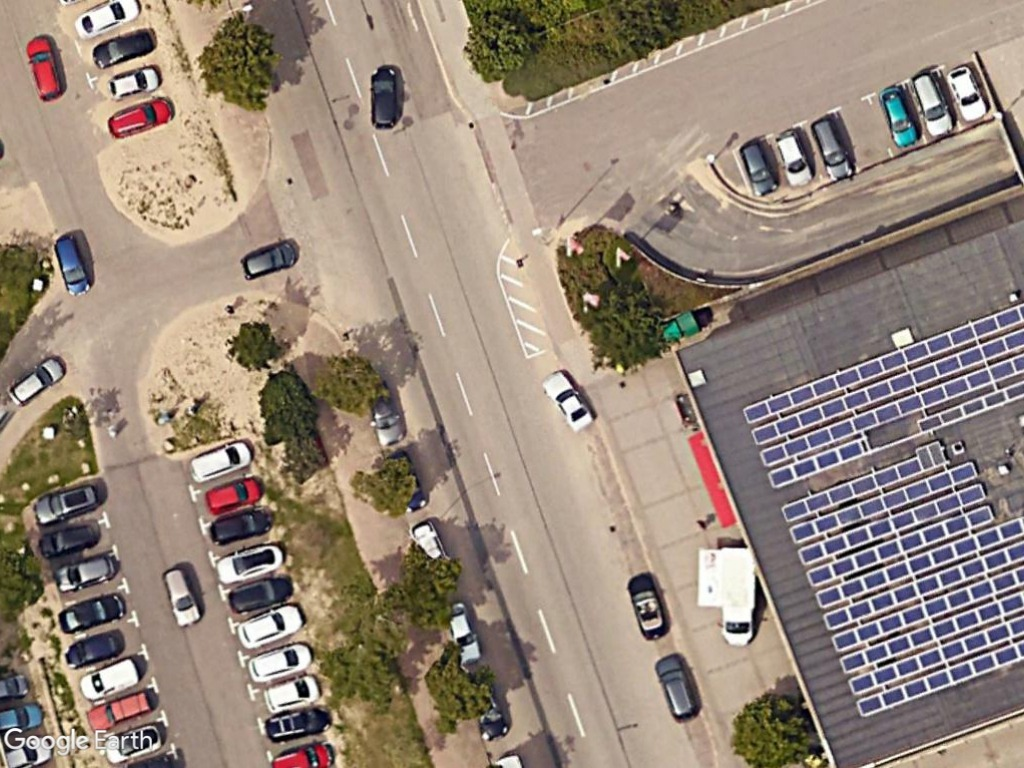car: (30, 474, 107, 532), (81, 683, 157, 738), (539, 368, 598, 436), (20, 32, 72, 106), (652, 651, 702, 727), (5, 351, 68, 411), (105, 90, 175, 142), (206, 499, 278, 549), (233, 601, 305, 651), (243, 638, 315, 688), (811, 113, 858, 188), (624, 567, 671, 642), (260, 697, 335, 744), (51, 548, 124, 596), (32, 515, 102, 565), (212, 539, 286, 586), (54, 589, 131, 634), (188, 434, 254, 485), (909, 69, 956, 140), (90, 24, 159, 72), (228, 571, 298, 618), (73, 0, 141, 46), (53, 231, 97, 302), (157, 563, 204, 629), (261, 670, 327, 717), (876, 79, 919, 149), (237, 236, 299, 283), (62, 628, 129, 671), (946, 62, 991, 126), (773, 126, 818, 190), (202, 474, 266, 518), (739, 138, 780, 200), (368, 60, 401, 134), (106, 63, 163, 100)
van: (75, 650, 147, 705)
